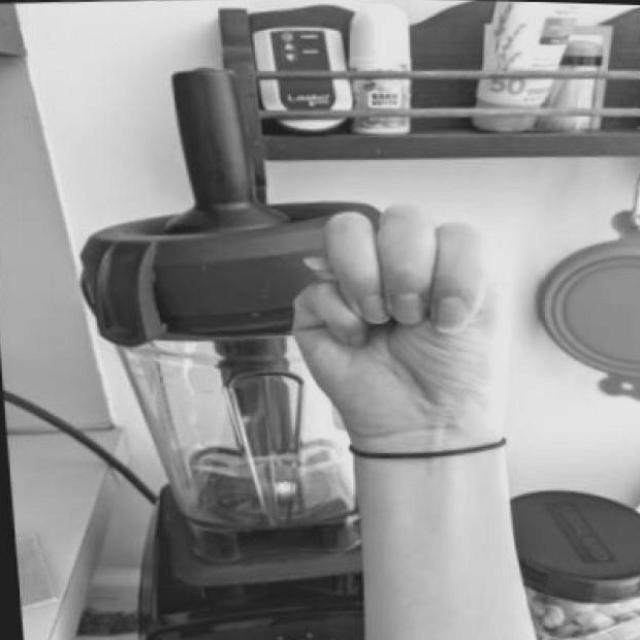M: (294, 191, 519, 461)
